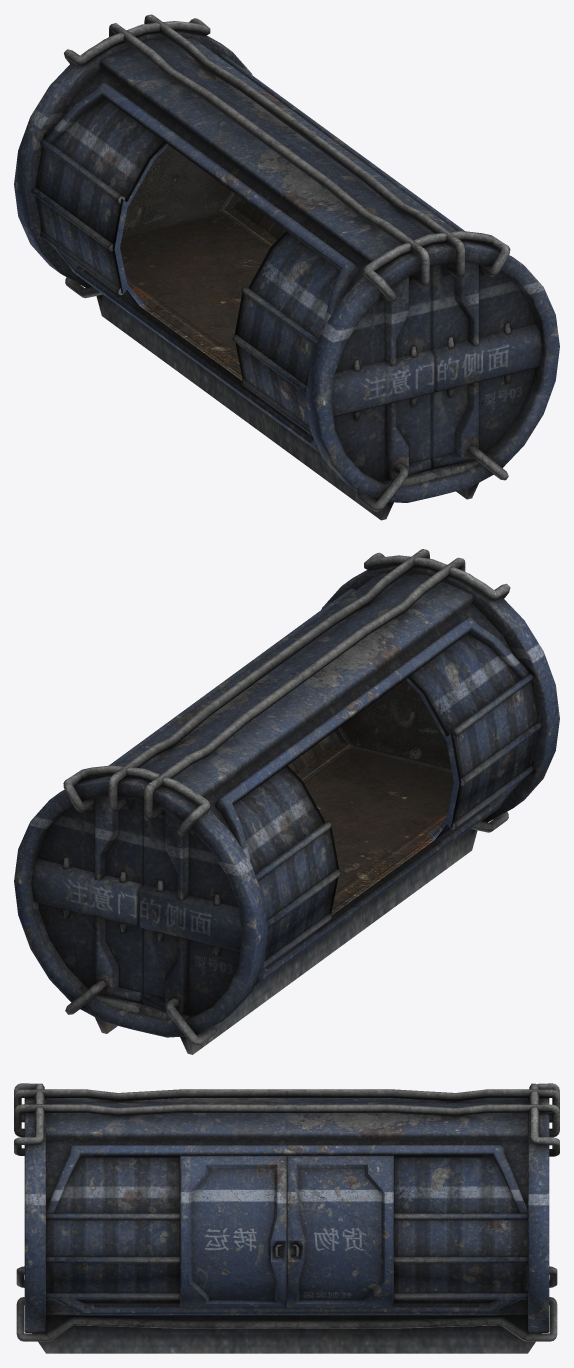
Rendered from 01_05_transporter_cargo_damaged.dae.
The picture shows the model from 3 angles, top to bottom: view 1: azimuth 30°, elevation 25°; view 2: azimuth 150°, elevation 25°; view 3: azimuth 270°, elevation 25°; orthographic projection. The views are drawn at different scales.
Parts seen in each view (by area): view 1: transporter_cargo_damaged, interior; view 2: transporter_cargo_damaged, interior; view 3: transporter_cargo_damaged.
Boxes of the visible parts, x1=… form: transporter_cargo_damaged: x1=14, y1=14, x2=559, y2=520; interior: x1=120, y1=145, x2=285, y2=380; transporter_cargo_damaged: x1=14, y1=549, x2=559, y2=1054; interior: x1=288, y1=679, x2=453, y2=914; transporter_cargo_damaged: x1=14, y1=1083, x2=559, y2=1353.
Bounding box in the file's own units: 4.14 × 4.5 × 9.33.
